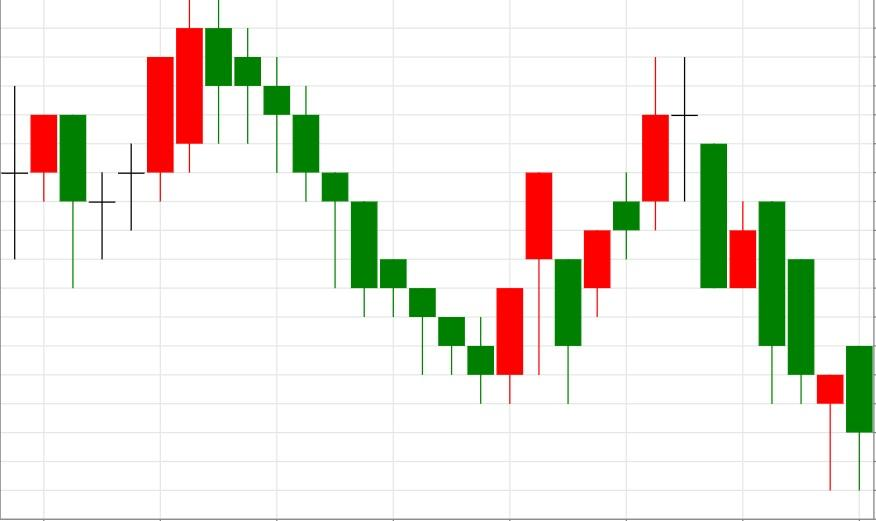bullish_engulfing_rise: (175, 0, 524, 404)
three_black_crows_fall: (58, 0, 320, 290)
